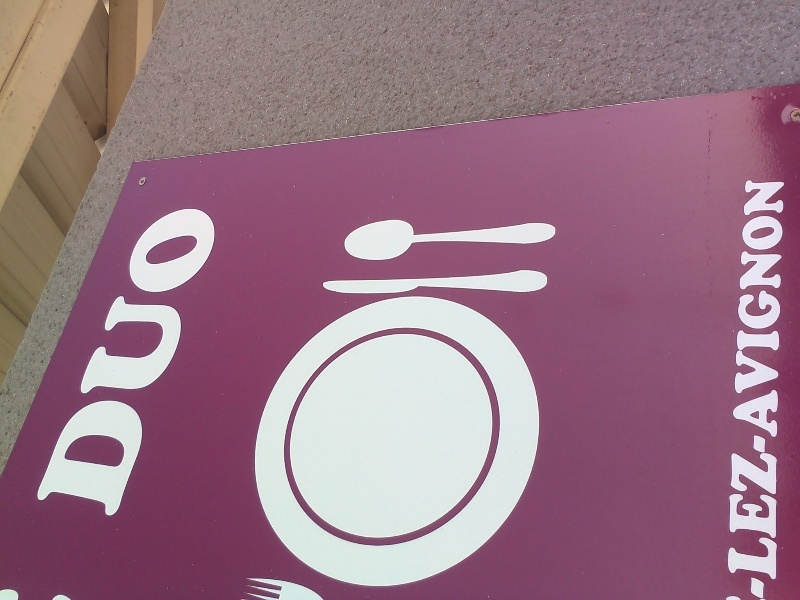text: (753, 175, 768, 598), (769, 175, 784, 598), (33, 202, 48, 521), (49, 202, 64, 521), (65, 202, 80, 521), (81, 202, 96, 521), (97, 202, 112, 521), (113, 202, 128, 521), (129, 202, 144, 521), (145, 202, 160, 521), (161, 202, 176, 521), (177, 202, 192, 521), (193, 202, 208, 521), (209, 202, 224, 521), (743, 175, 752, 598), (27, 202, 32, 521), (225, 202, 229, 521), (785, 175, 786, 598)
